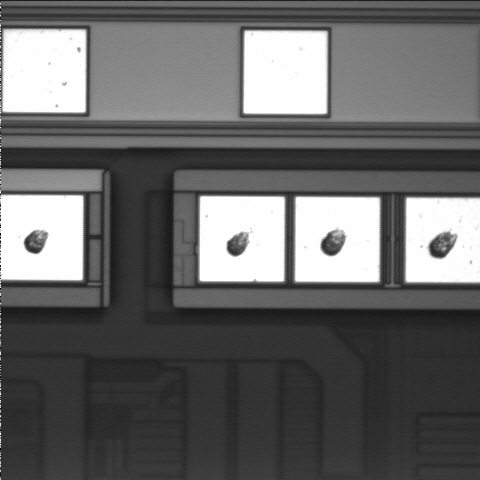pad: (200, 196, 285, 282), (295, 197, 380, 282), (3, 30, 86, 113), (244, 31, 327, 114)
